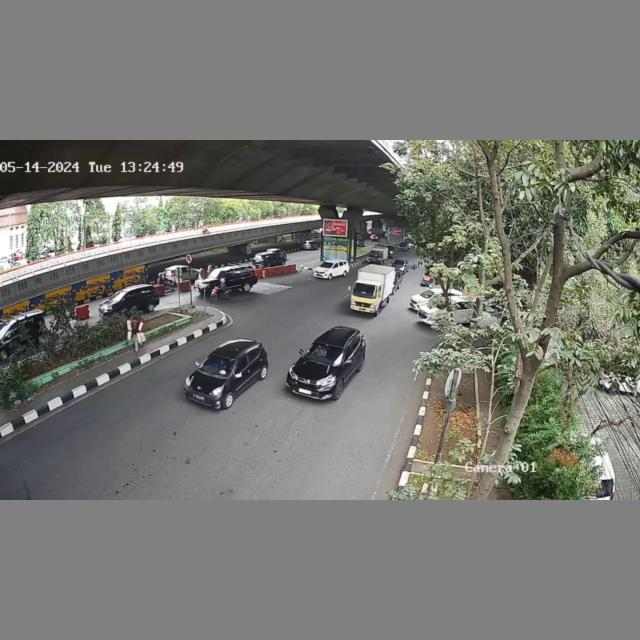windshield: (303, 342, 345, 367), (197, 354, 236, 377), (351, 283, 379, 297)
